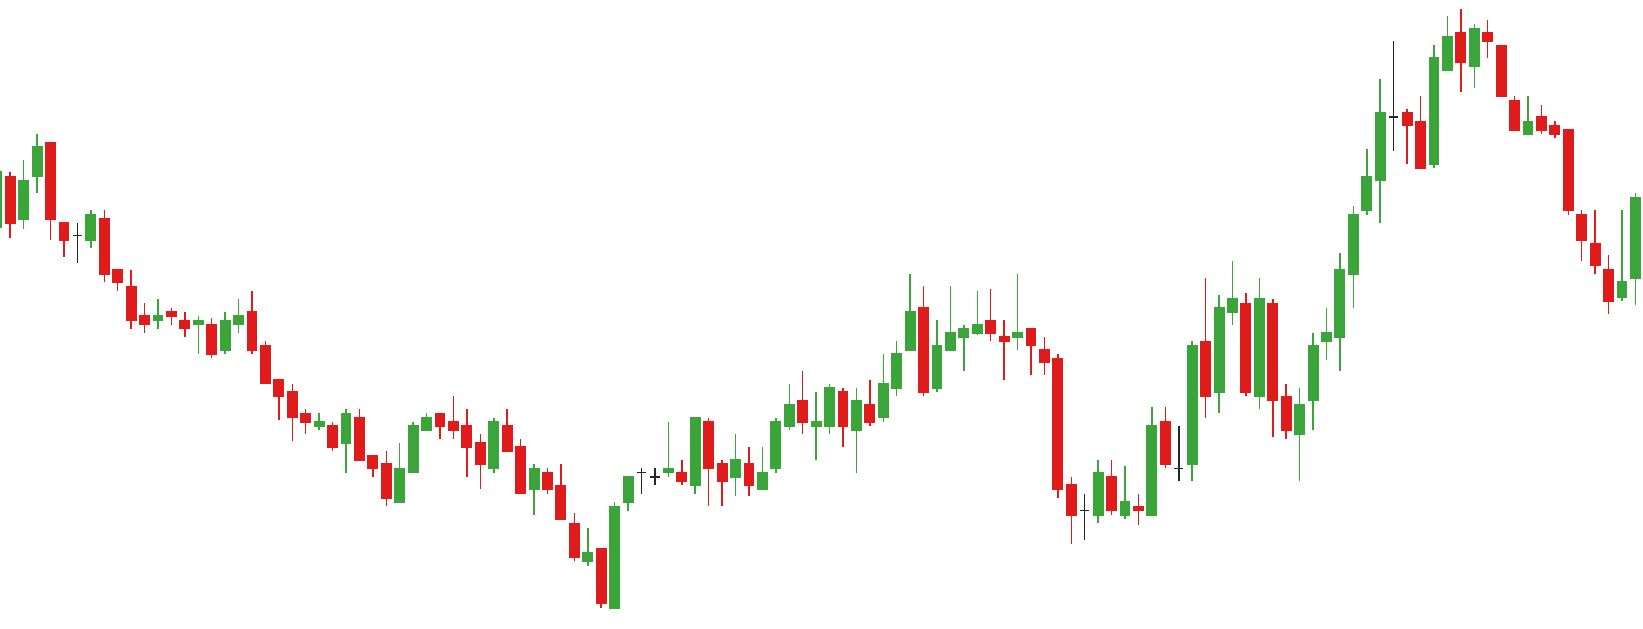buy: (1199, 305, 1307, 493)
